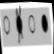correct: (40, 12, 49, 34)
not correct: (13, 4, 24, 45)
